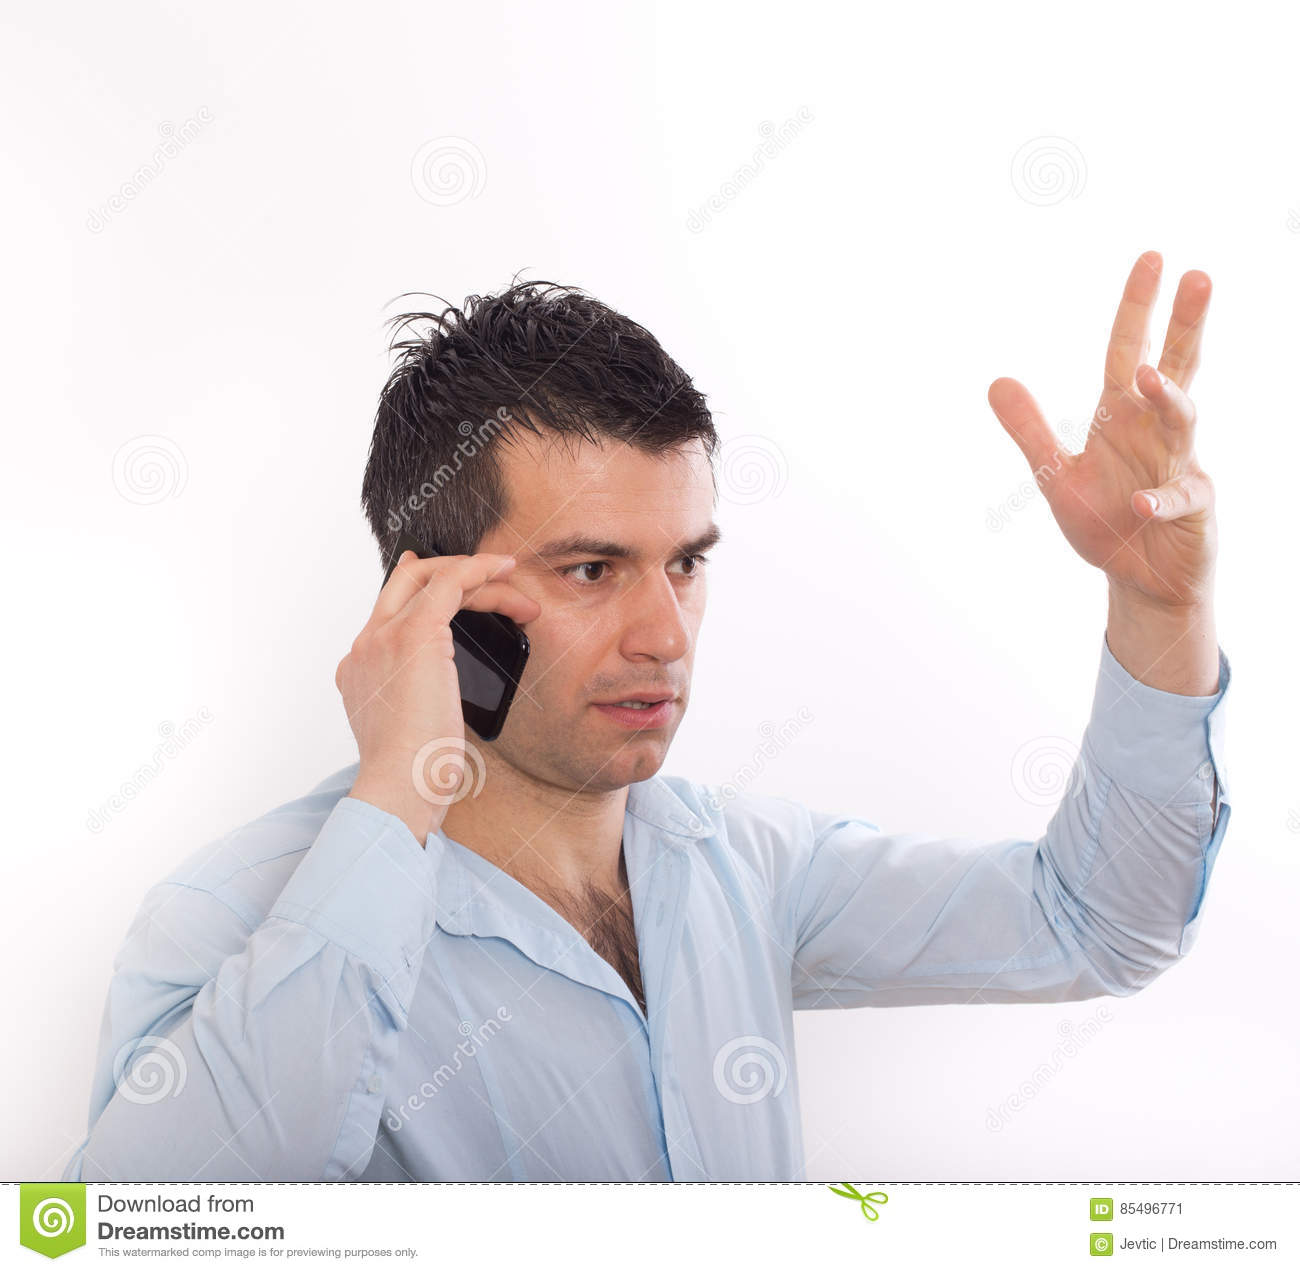phone: (382, 530, 532, 743)
talk: (332, 525, 723, 824)
